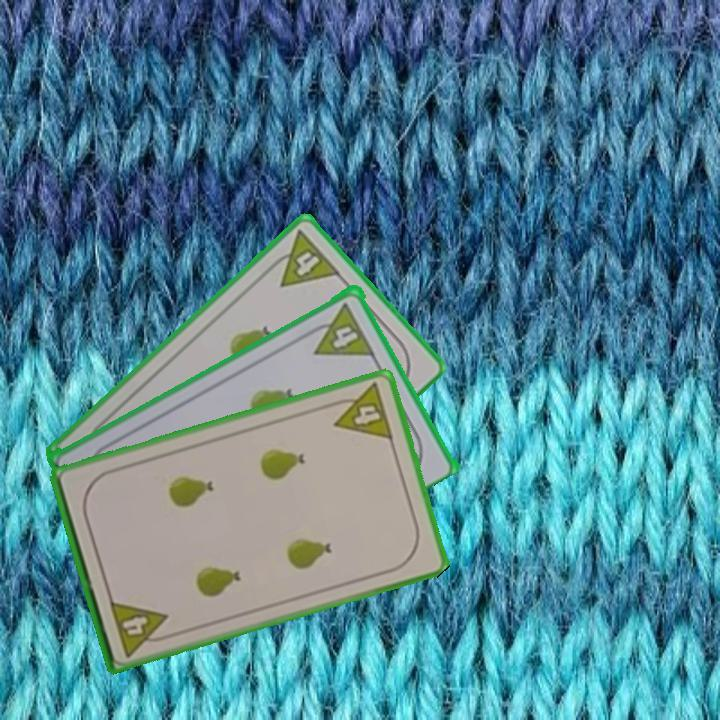4p: (262, 226, 343, 290), (325, 379, 396, 443), (106, 596, 175, 660), (314, 317, 374, 359)
